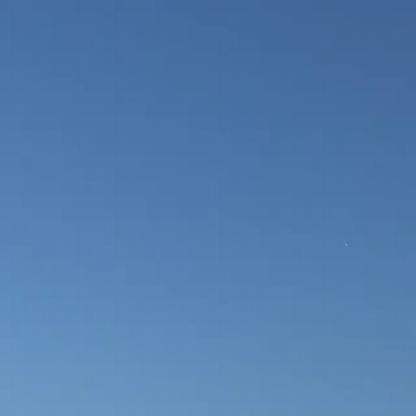CIV_Plane: (344, 240, 349, 252)
